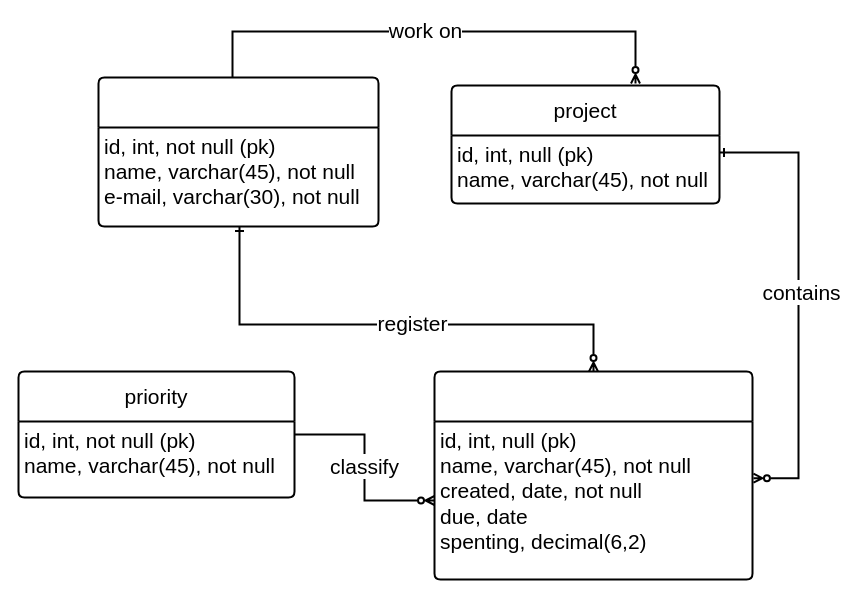
Image size: 857x597. Some labels were removed from this diagram. Here are the shapes that lost their labels. From the top down, the box of each, then its label:
(97, 76, 379, 227): user
(433, 370, 753, 580): task
